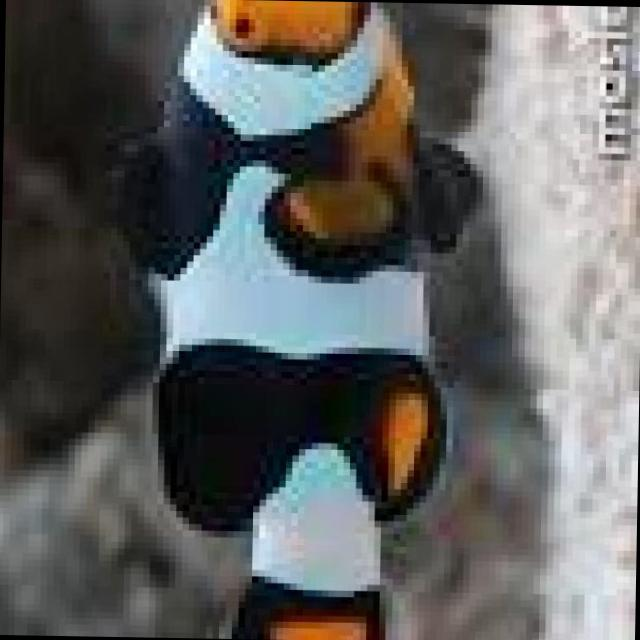ClownFish: (70, 0, 486, 640)
